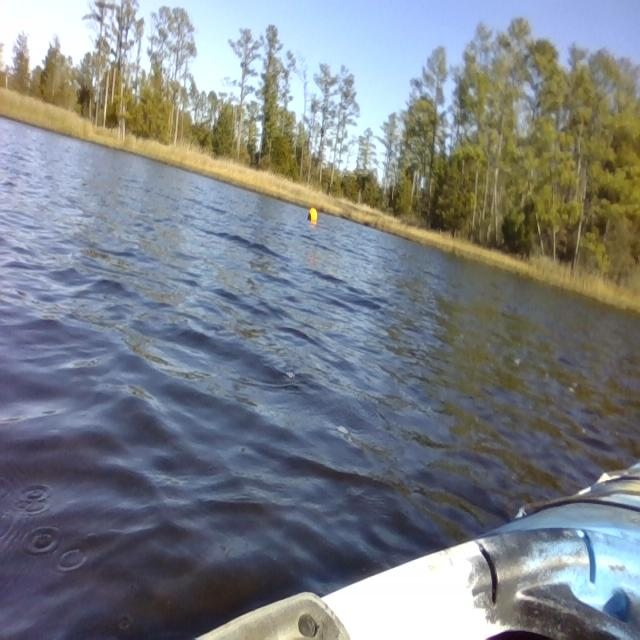Buoy: (305, 204, 319, 226)
